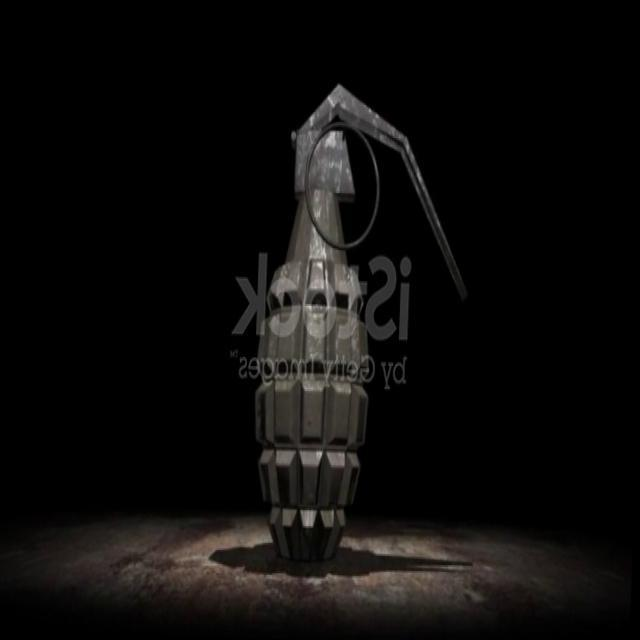grenade: (243, 85, 469, 574)
